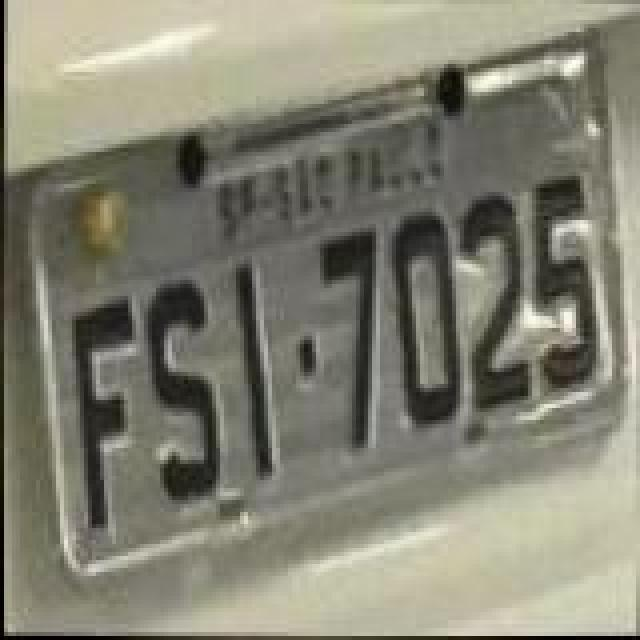1: (230, 258, 278, 478)
2: (458, 198, 538, 414)
5: (526, 172, 598, 388)
7: (314, 232, 378, 452)
F: (68, 290, 140, 534)
O: (386, 212, 466, 428)
S: (144, 278, 224, 506)
